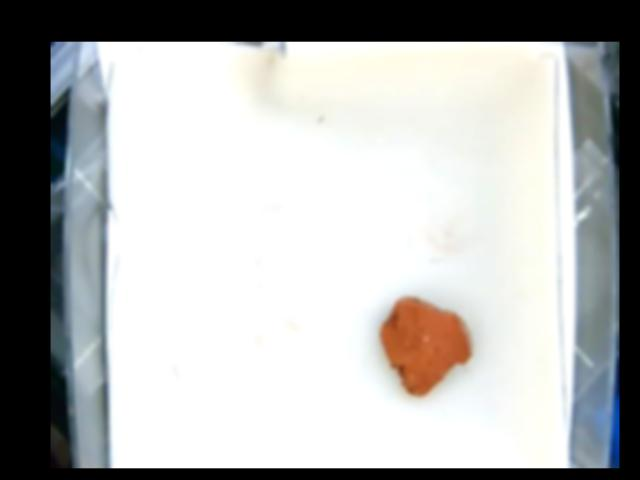Brisk: (381, 298, 473, 397)
